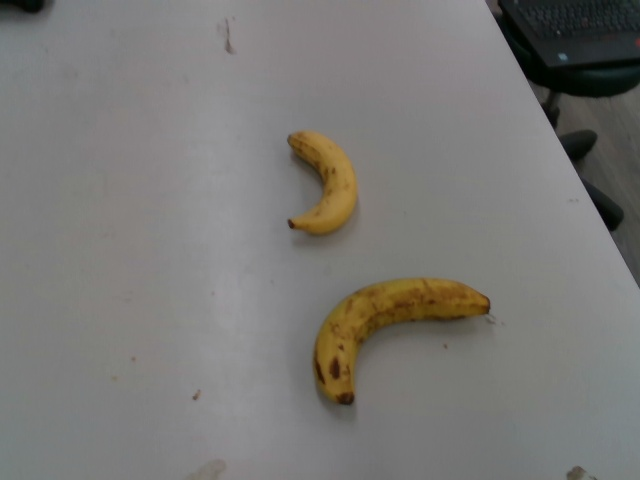banana: (311, 274, 493, 410), (282, 126, 361, 236)
